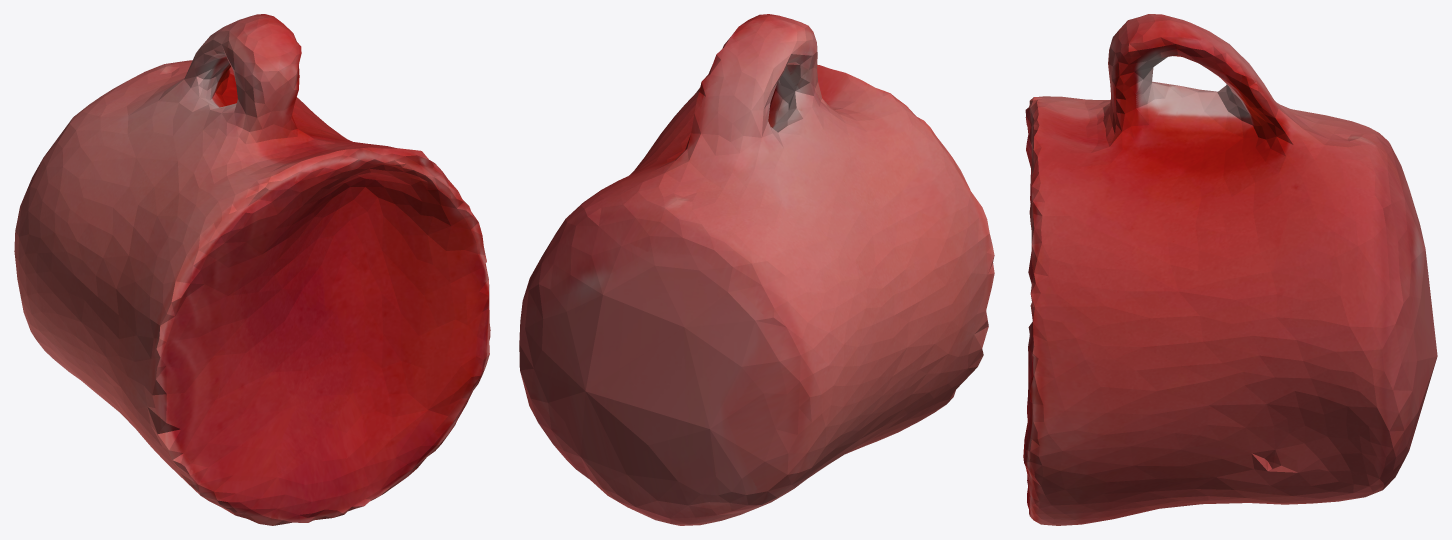
The model's file is red_mug_small.obj.
3 renders of one model, left to right at view 1: azimuth 30°, elevation 25°; view 2: azimuth 150°, elevation 25°; view 3: azimuth 270°, elevation 25°, orthographic. The views are drawn at different scales.
Visible parts, largest first — view 1: mat0; view 2: mat0; view 3: mat0.
Boxes of the visible parts, left/top/right/bottom form: mat0: left=14, top=14, right=490, bottom=525; mat0: left=519, top=14, right=994, bottom=525; mat0: left=1023, top=14, right=1437, bottom=525.
Bounding box in the file's own units: 0.0564 × 0.0729 × 0.0567.
Materials: 1 (1 with a texture image).
